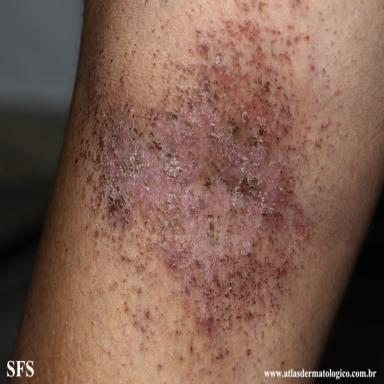Darier_s-Disease: (71, 1, 351, 382)
